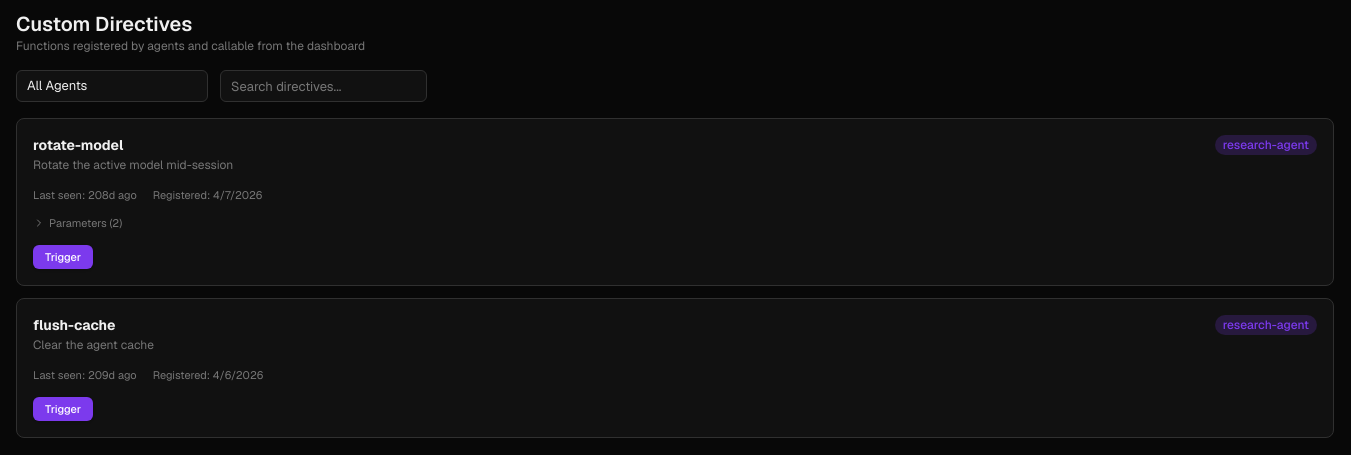
Directives page › search filters directive list client-side
Expected: the heading "rotate-model" is shown, [33,136,123,154]
Type "flush" into the field labelled "Search directives".
click(324, 86); type("flush")  # box [220,70,427,102]
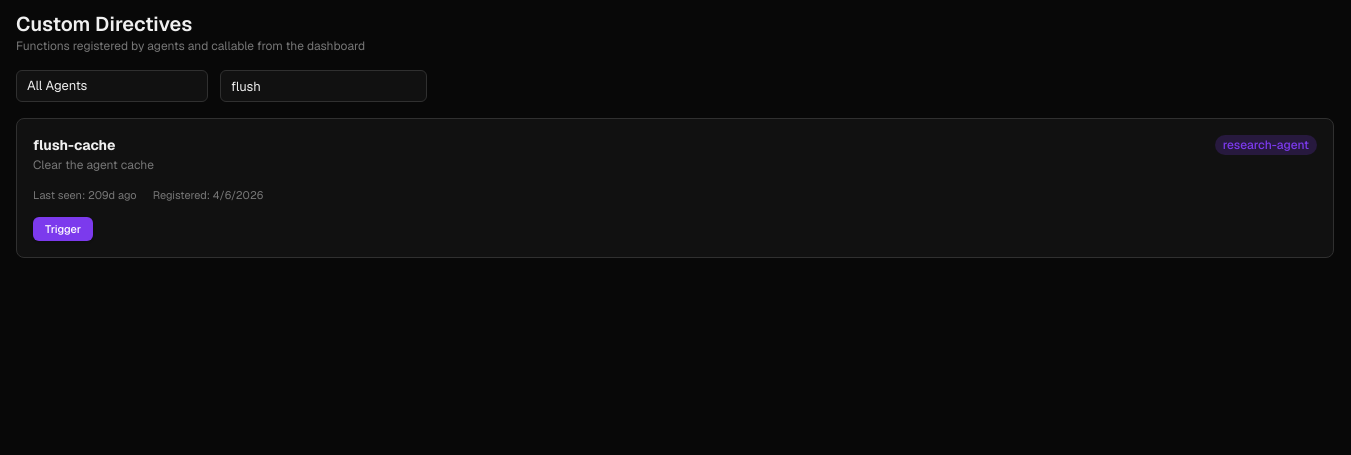
Expected: the heading "flush-cache" is shown, [33,136,116,154]
Expected: the heading "rotate-model" is gone
